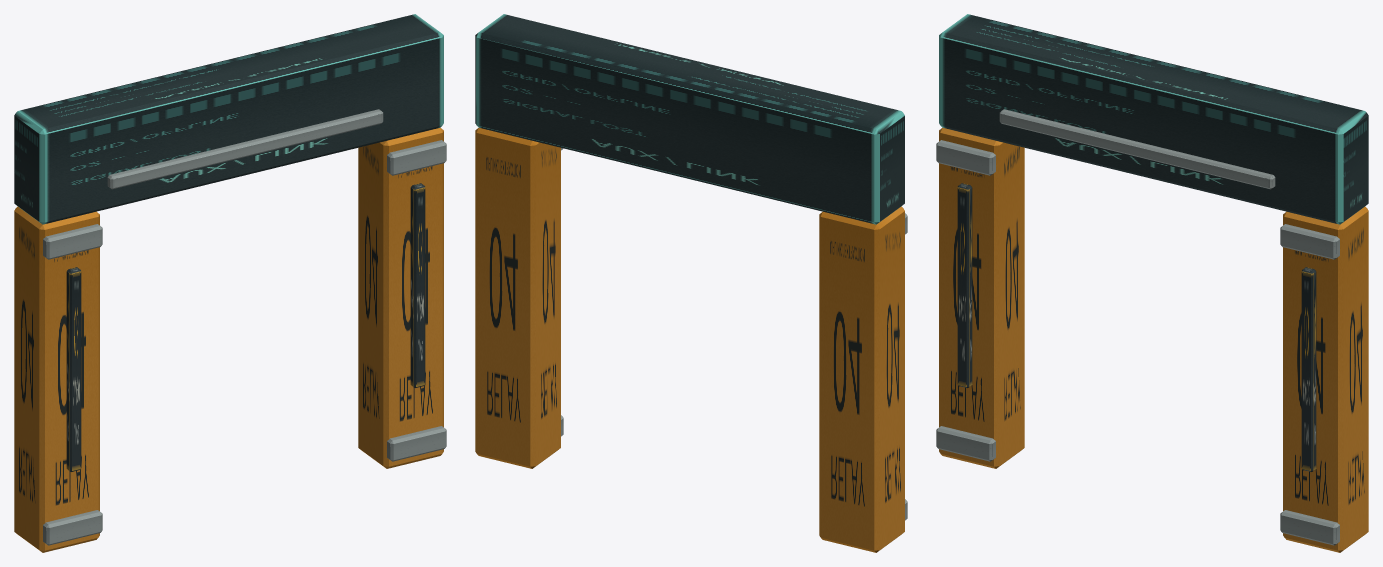
The model's file is doorframe_4m_LOD1.obj.
3 renders of one model, left to right at view 1: azimuth 30°, elevation 25°; view 2: azimuth 150°, elevation 25°; view 3: azimuth 330°, elevation 25°, orthographic.
Visible parts, largest first — view 1: L02_doorframe_4m_LOD1; view 2: L02_doorframe_4m_LOD1; view 3: L02_doorframe_4m_LOD1.
Part boxes in pixels (x1,y1,x2,y2): L02_doorframe_4m_LOD1: [14, 14, 446, 552]; L02_doorframe_4m_LOD1: [475, 14, 907, 552]; L02_doorframe_4m_LOD1: [936, 14, 1368, 552].
Bounding box in the file's own units: 4 × 4 × 0.58.
1 material, 1 textured.
